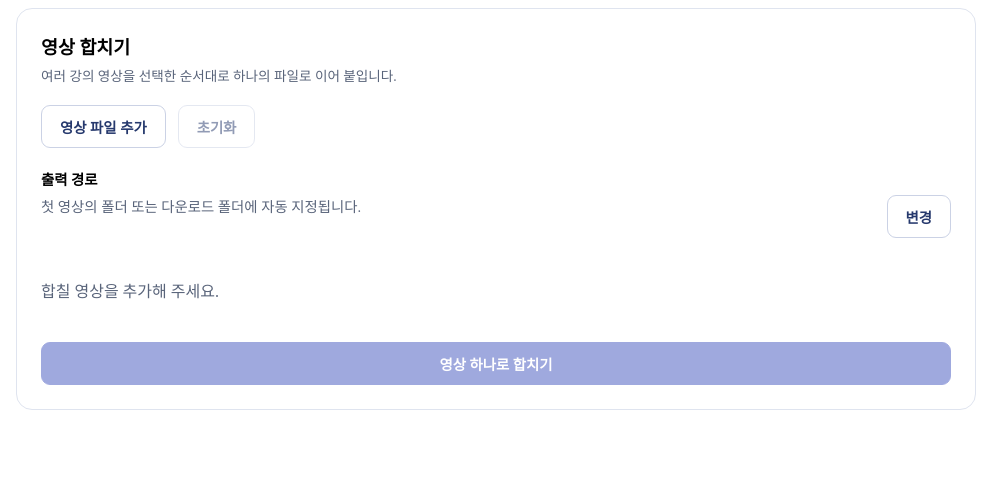
Test: ToolsView store integration › clears the list and status only through the explicit reset action
Click the button "영상 파일 추가": (103, 126) [41,105,166,148]
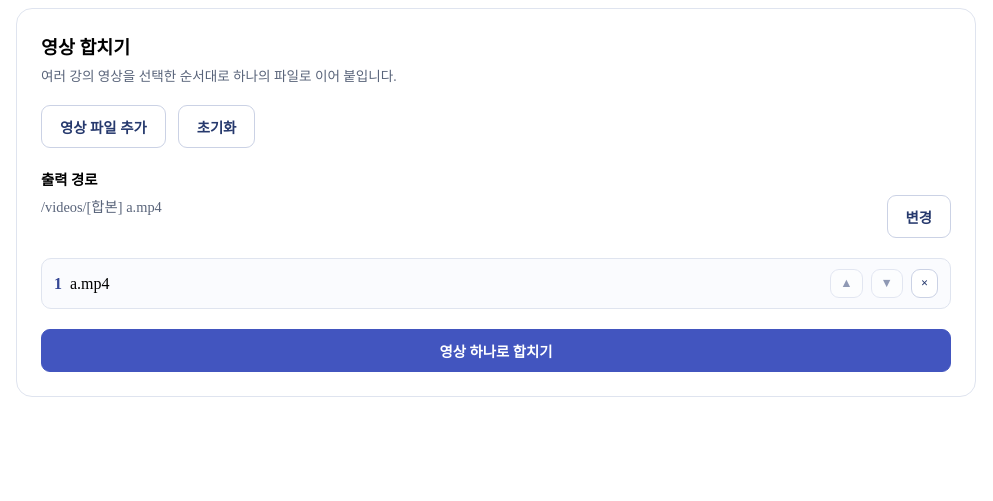
Result: the number of list items is 1 at [41,258,951,309]
Click the button "영상 하나로 합치기": (496, 350) [41,329,951,372]
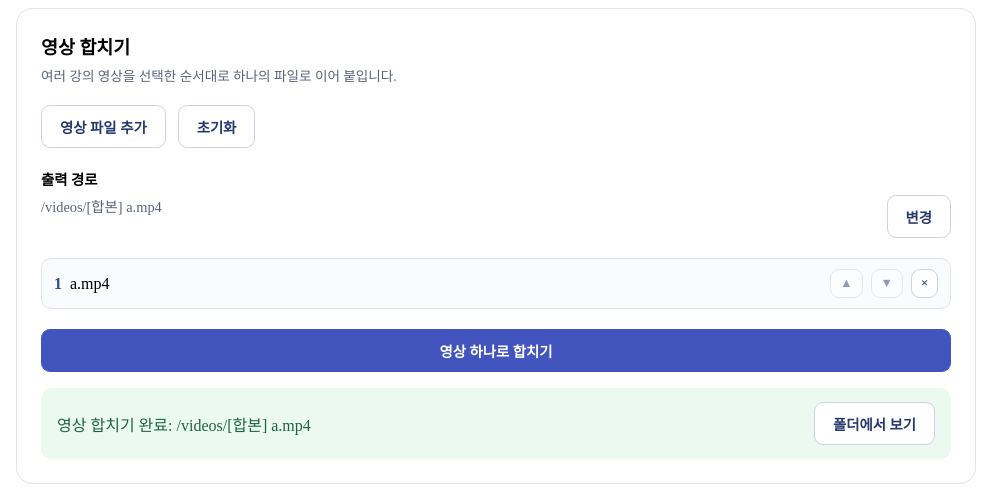
Result: the number of list items is 1 at [41,258,951,309]
Result: the text "영상 합치기 완료: /videos/[합본] a.mp4" is shown at [57,416,311,434]
Click the button "초기화": (216, 126) [178,105,255,148]
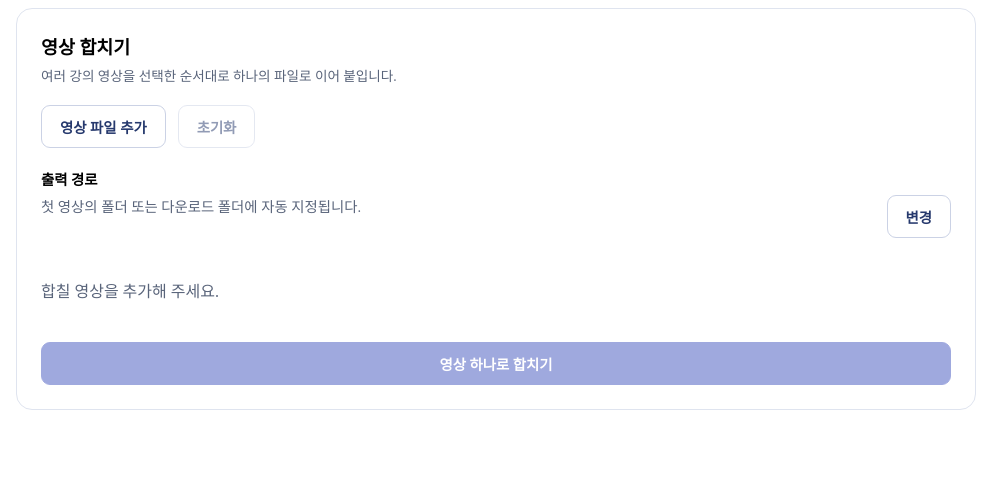
Result: no list items are shown
Result: the text "영상 합치기 완료" is gone
Result: the text "합칠 영상을 추가해 주세요." is shown at [41,283,219,300]
